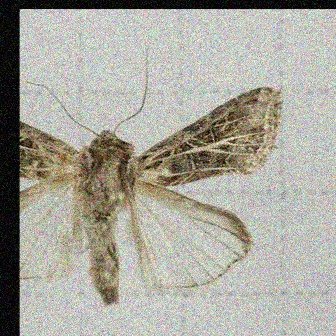Spodoptera litura: (19, 46, 282, 308)
